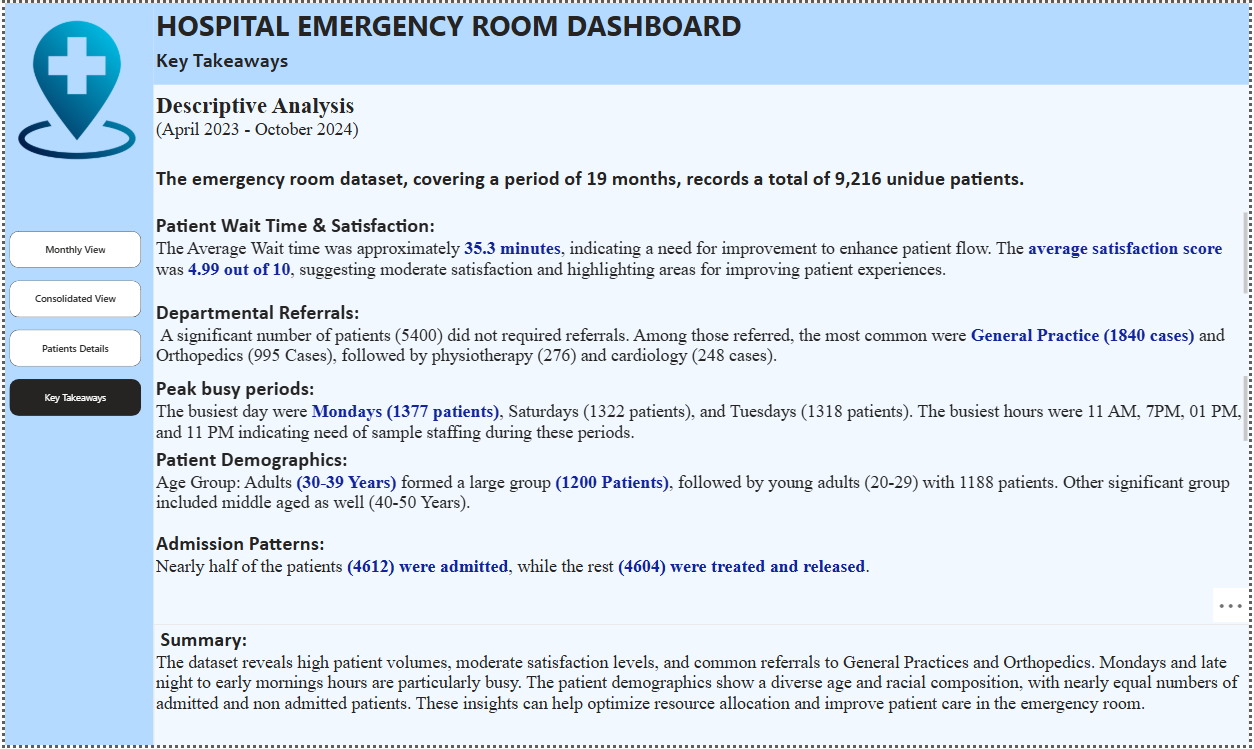

The page's visual inventory and layout, read from the dashboard file:
{"tool":"powerbi","page":{"name":"Key Takeaways","canvas":[2600,1550],"ordinal":3},"visuals":[{"type":"shape","box":[310.2,0,2290.2,170.8],"z":0},{"type":"shape","box":[0,0,310.2,1551.2],"z":1000},{"type":"textbox","box":[310.2,0,1247.9,94.1],"z":2000},{"type":"textbox","box":[310.3,86.2,406.9,86.2],"z":3000},{"type":"image","box":[0,31,300,300],"z":4000},{"type":"textbox","box":[310.3,182.8,2289.7,251.7],"z":5000},{"type":"textbox","box":[310.2,432.2,2290.2,181.3],"z":6000},{"type":"textbox","box":[310.2,613.5,2290.2,160.3],"z":6001},{"type":"textbox","box":[310.2,773.9,2290.2,146.4],"z":6002},{"type":"textbox","box":[310.2,920.3,2290.2,149.9],"z":6003},{"type":"textbox","box":[310.2,1098,2290.2,129],"z":6004},{"type":"textbox","box":[310.2,1296.7,2290.2,254.5],"z":6005},{"type":"pageNavigator","box":[10.5,477.6,275.4,386.9],"z":6006}]}

Visuals, with their boxes in screenshot pixels (x1, y1, x2, y2), scaled from the page's 2600x1550 canvas onto the 1254x749 screenshot:
shape: crop(150, 0, 1253, 83)
shape: crop(0, 0, 150, 748)
textbox: crop(150, 0, 751, 45)
textbox: crop(150, 42, 346, 83)
image: crop(0, 15, 145, 160)
textbox: crop(150, 88, 1253, 210)
textbox: crop(150, 209, 1253, 296)
textbox: crop(150, 296, 1253, 374)
textbox: crop(150, 374, 1253, 445)
textbox: crop(150, 445, 1253, 517)
textbox: crop(150, 531, 1253, 593)
textbox: crop(150, 627, 1253, 748)
pageNavigator: crop(5, 231, 138, 418)
